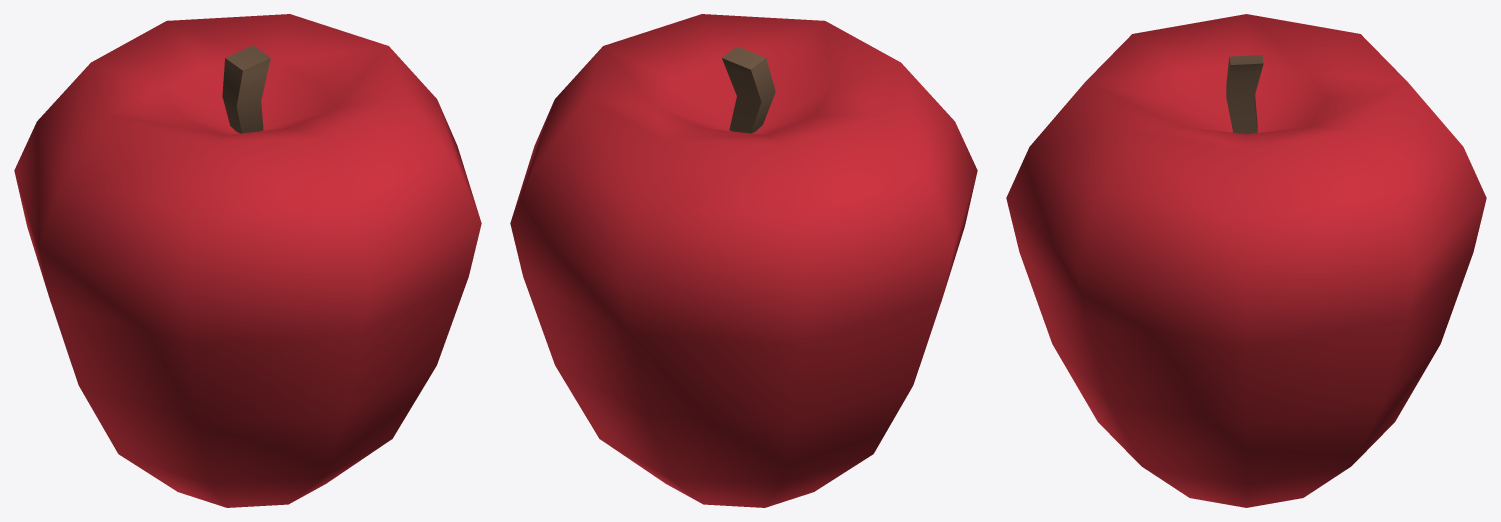
File: x_fruit.fbx
3 views of the same model, side by side, from view 1: azimuth 30°, elevation 25°; view 2: azimuth 150°, elevation 25°; view 3: azimuth 270°, elevation 25° (orthographic).
Parts seen in each view (by area): view 1: x_fruit_baked; view 2: x_fruit_baked; view 3: x_fruit_baked.
Part boxes in pixels (x1,y1,x2,y2): x_fruit_baked: (14,14,481,507); x_fruit_baked: (510,14,977,507); x_fruit_baked: (1006,14,1486,507).
Size of the model in its own units: 0.2901 by 0.29 by 0.2901.
